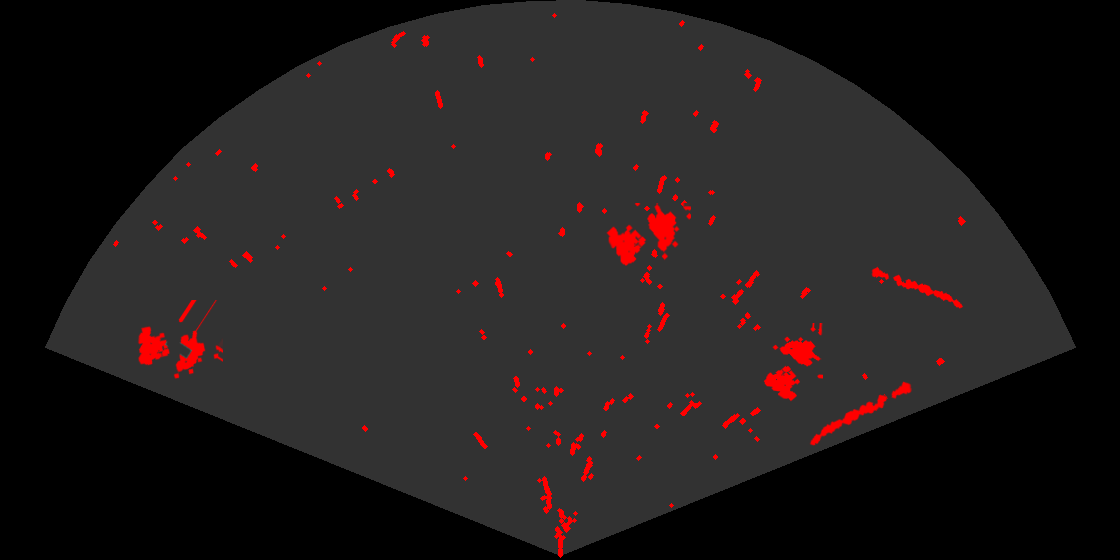cage: (136, 300, 223, 380), (605, 203, 691, 267), (762, 323, 823, 403)
chain: (808, 380, 914, 447), (870, 265, 965, 310)
